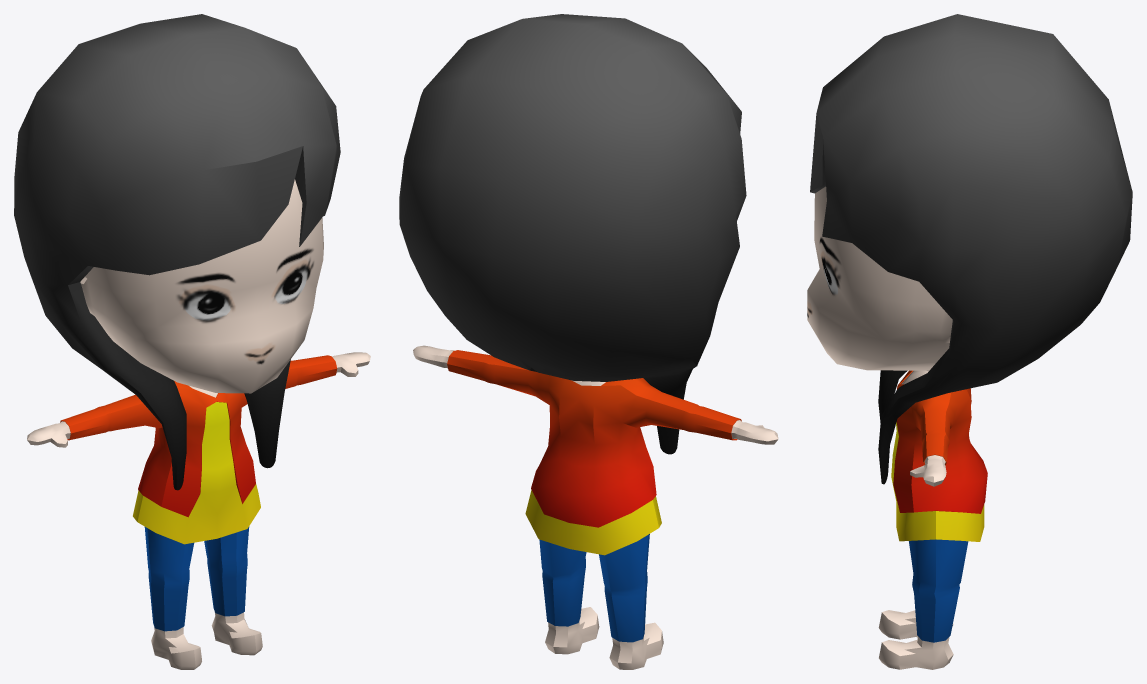
File: Char_CEWEK_002.fbx
3 views of the same model, side by side, from view 1: azimuth 30°, elevation 25°; view 2: azimuth 150°, elevation 25°; view 3: azimuth 270°, elevation 25° (orthographic). The views are drawn at different scales.
Visible parts, largest first — view 1: Char 1.024, Char 1.040, Char 1.029, Char 1.032; view 2: Char 1.024, Char 1.029, Char 1.032, Char 1.040; view 3: Char 1.024, Char 1.040, Char 1.029, Char 1.032.
Part boxes in pixels (bbox=[...]): Char 1.024: bbox=[14, 14, 340, 490]; Char 1.040: bbox=[27, 179, 370, 669]; Char 1.029: bbox=[60, 355, 337, 544]; Char 1.032: bbox=[144, 526, 249, 631]; Char 1.024: bbox=[399, 14, 746, 454]; Char 1.029: bbox=[447, 350, 741, 555]; Char 1.032: bbox=[539, 534, 649, 642]; Char 1.040: bbox=[413, 345, 778, 669]; Char 1.024: bbox=[810, 14, 1132, 484]; Char 1.040: bbox=[807, 186, 953, 669]; Char 1.029: bbox=[891, 370, 987, 541]; Char 1.032: bbox=[909, 539, 968, 642].
Bounding box in the file's own units: 833 × 1392 × 670.
Materials: 2 (2 with a texture image).
